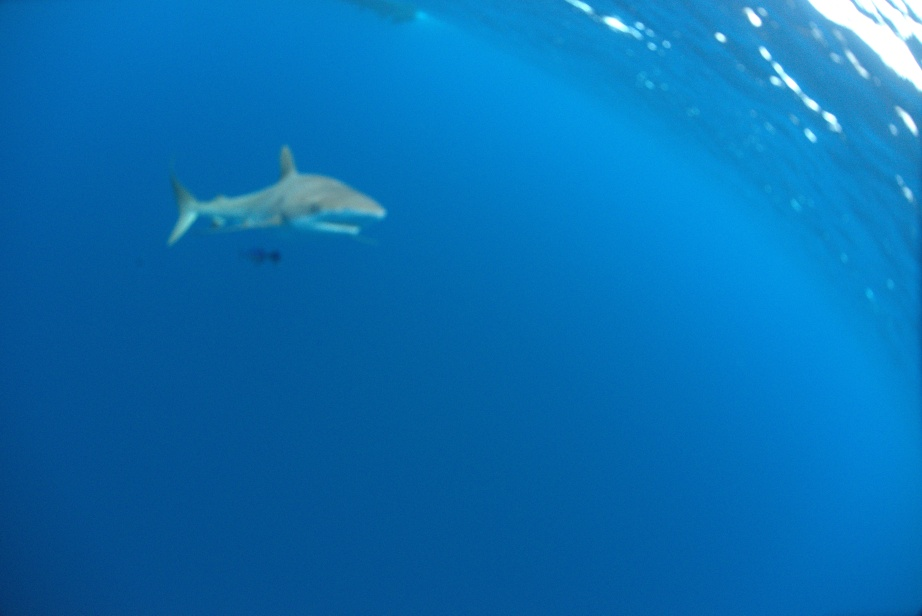Sedoso: (134, 134, 408, 258)
